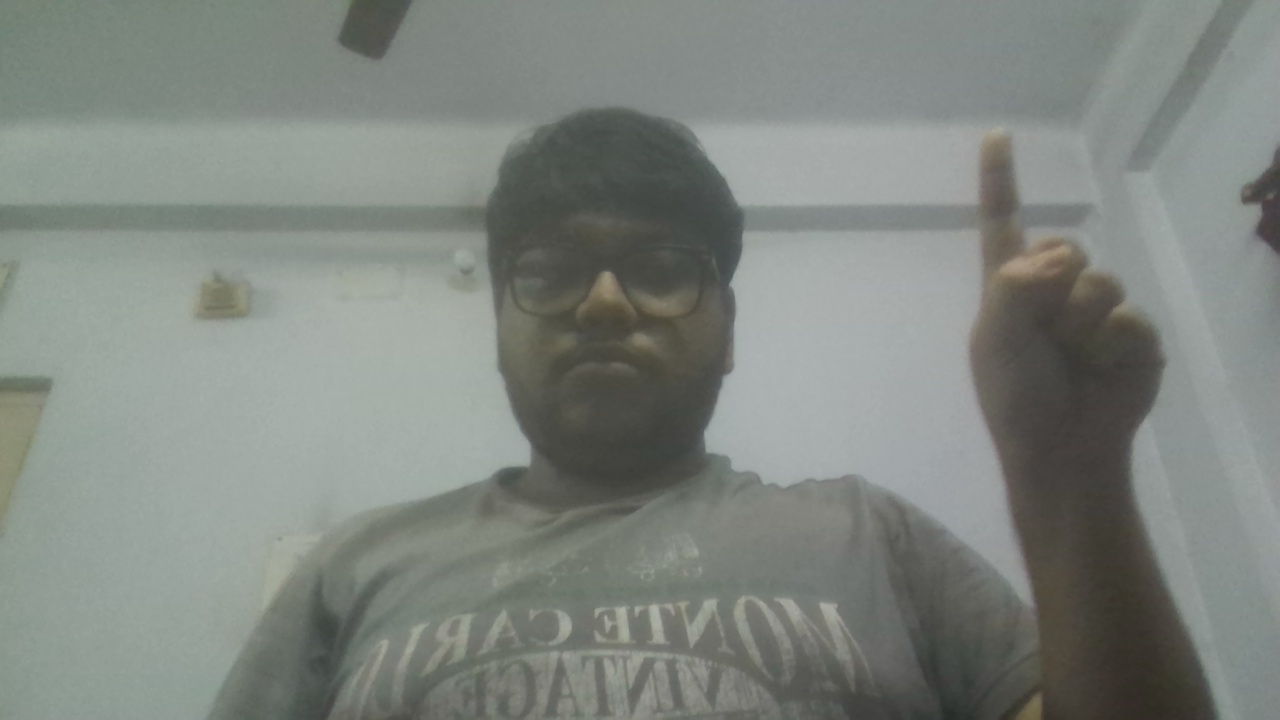Gesture1: (957, 117, 1179, 492)
